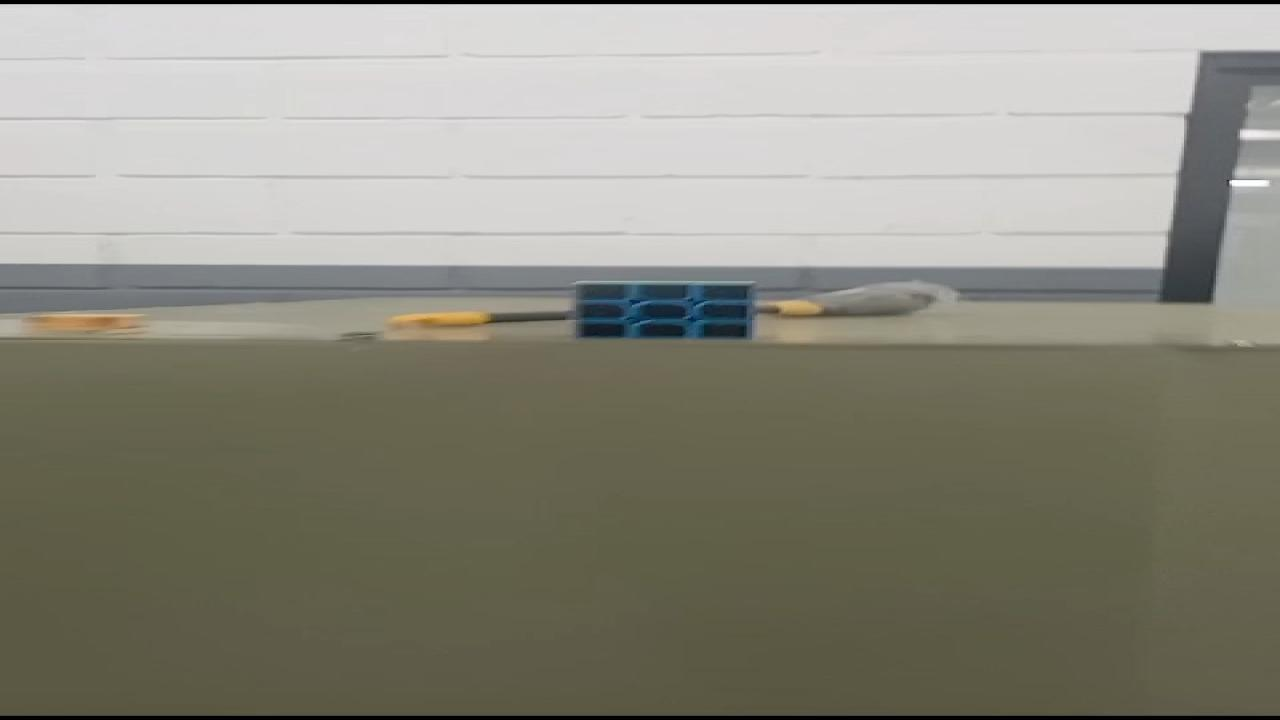Cube: (566, 279, 760, 340)
